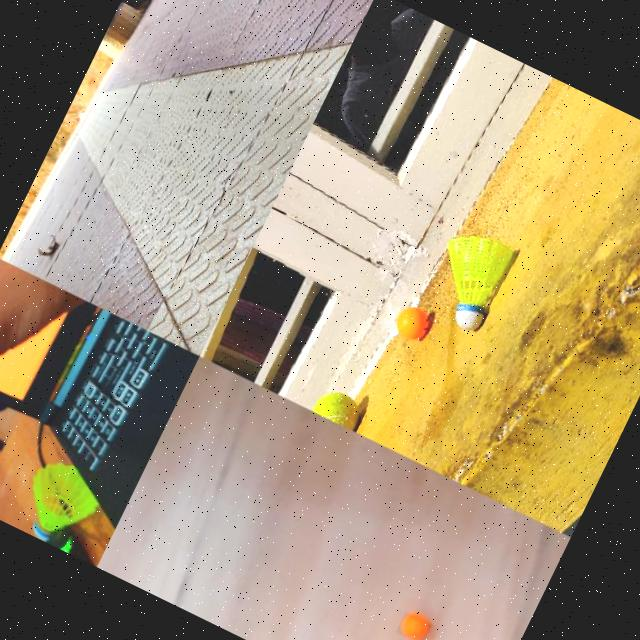ping-pong-ball: (388, 299, 432, 342), (393, 611, 431, 640)
